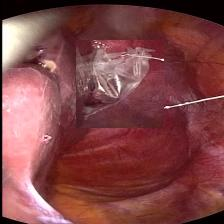Specimen Bag: (75, 40, 162, 128)
